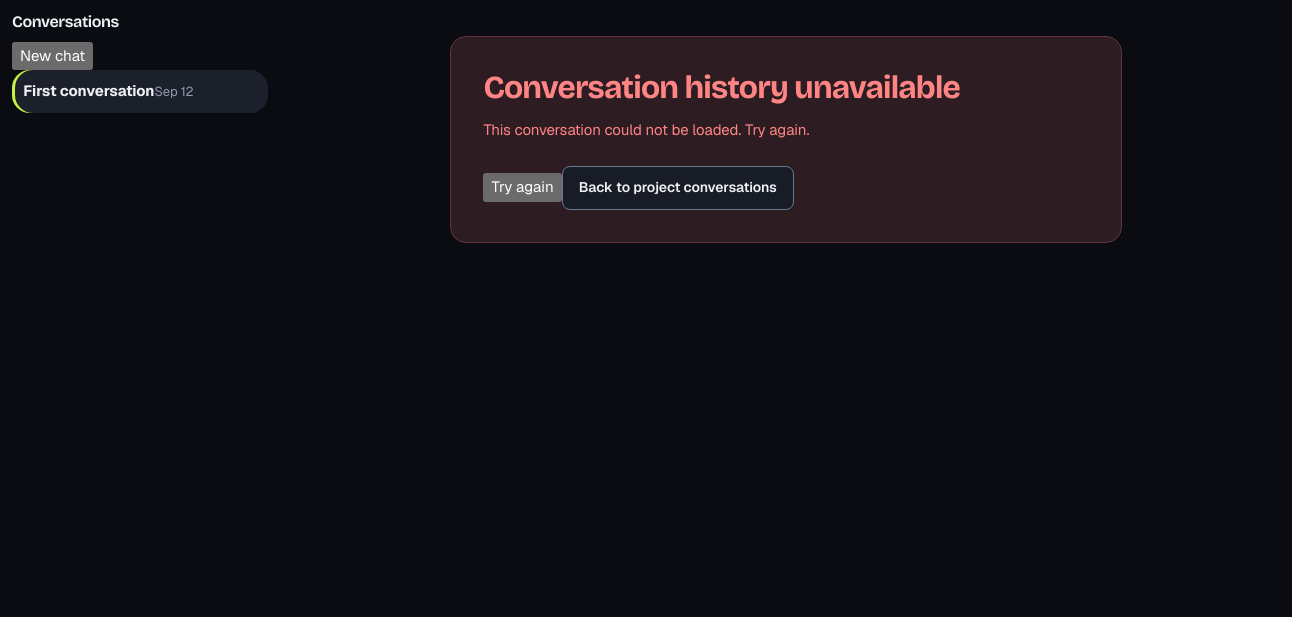
Test: ChatWorkspace › uses retryable history copy for non-404 failures
Expected: the element with test id "conversation-history-retryable" shows "Conversation history unavailable", [483,68,960,107]
Click the button with test id "conversation-history-retry" at (523, 187), box [483,173,562,202]
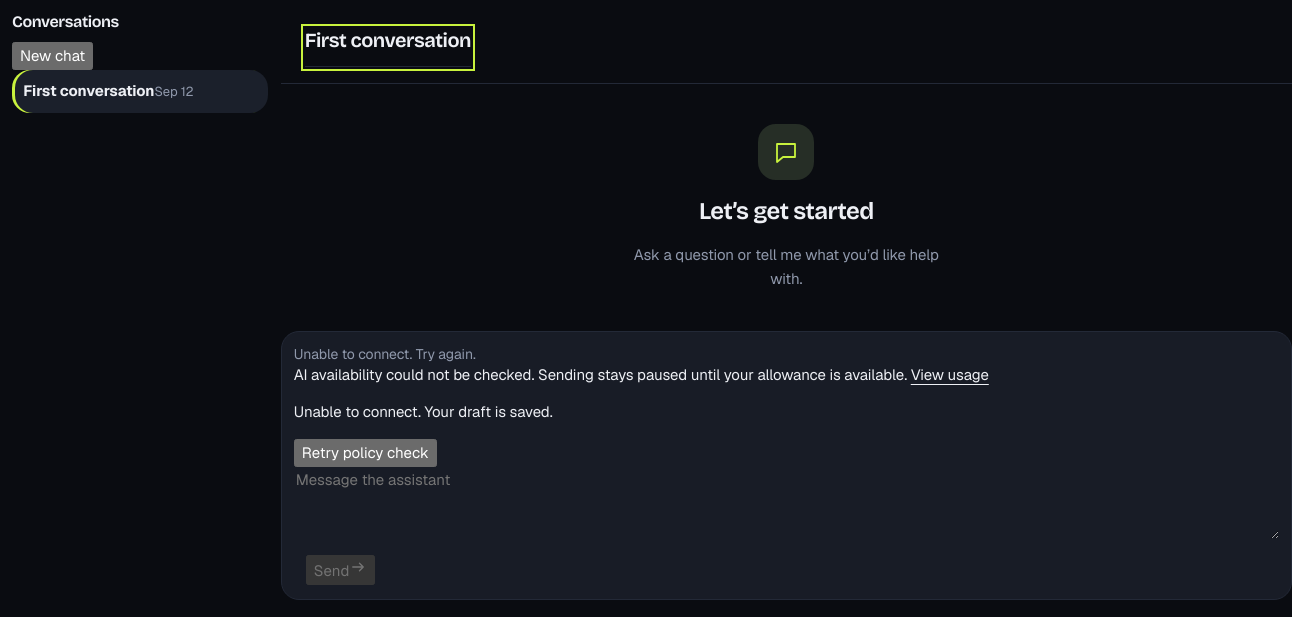
Expected: the element with test id "conversation-history-empty" is shown, [634,124,939,288]
